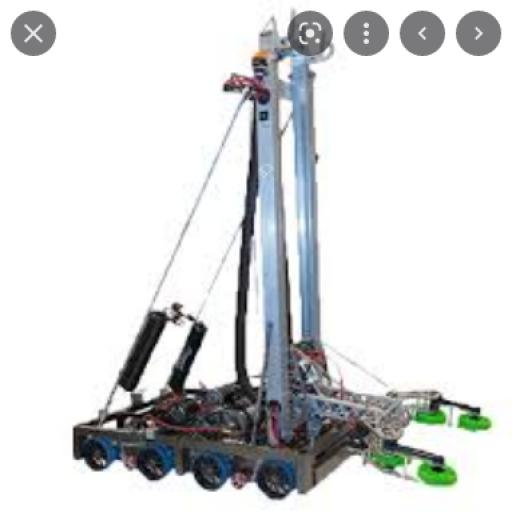robot: (72, 8, 492, 499)
